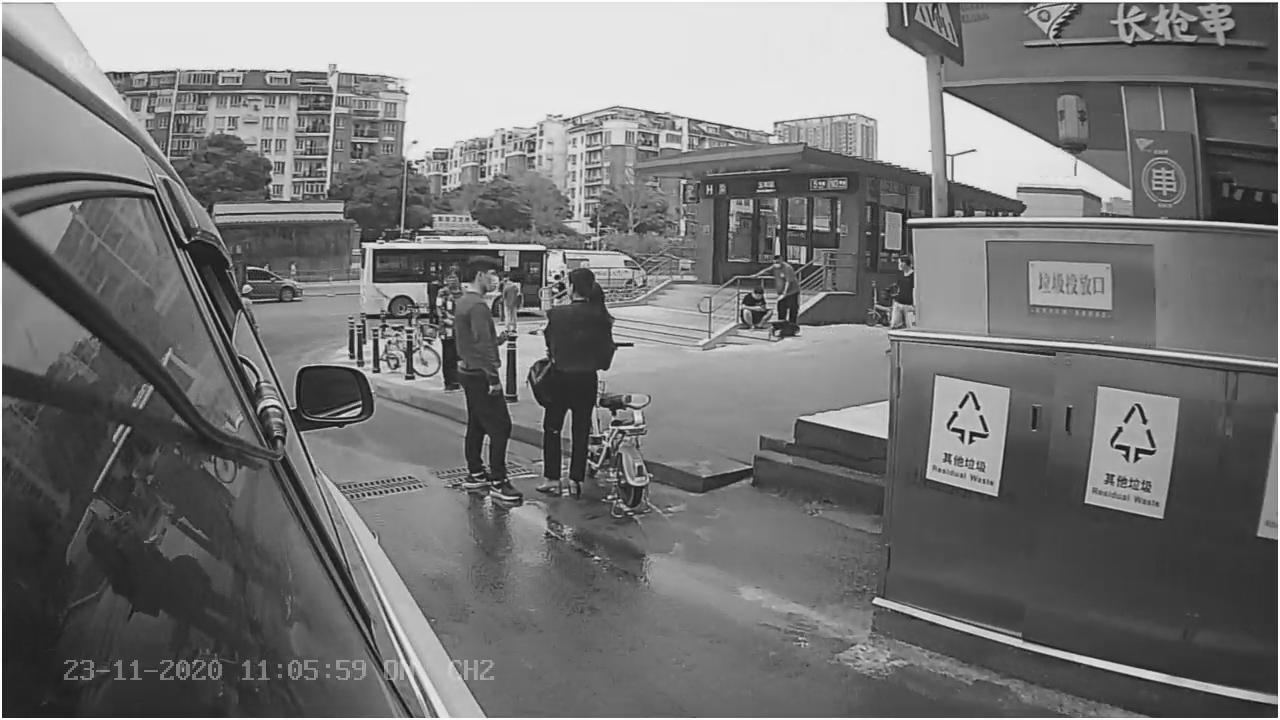person: (445, 257, 525, 511)
